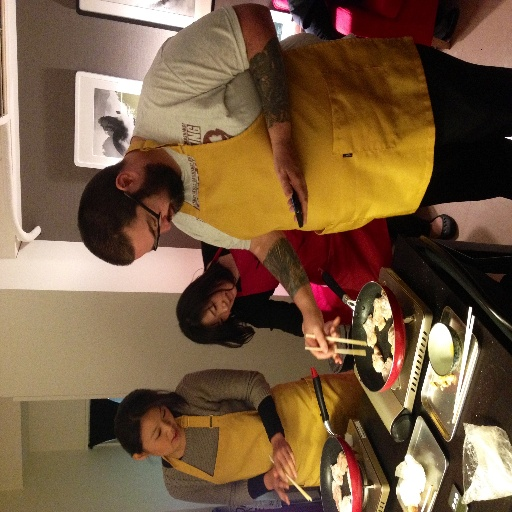hand: (270, 138, 310, 227), (299, 307, 343, 373), (269, 436, 297, 484), (267, 465, 289, 508)
